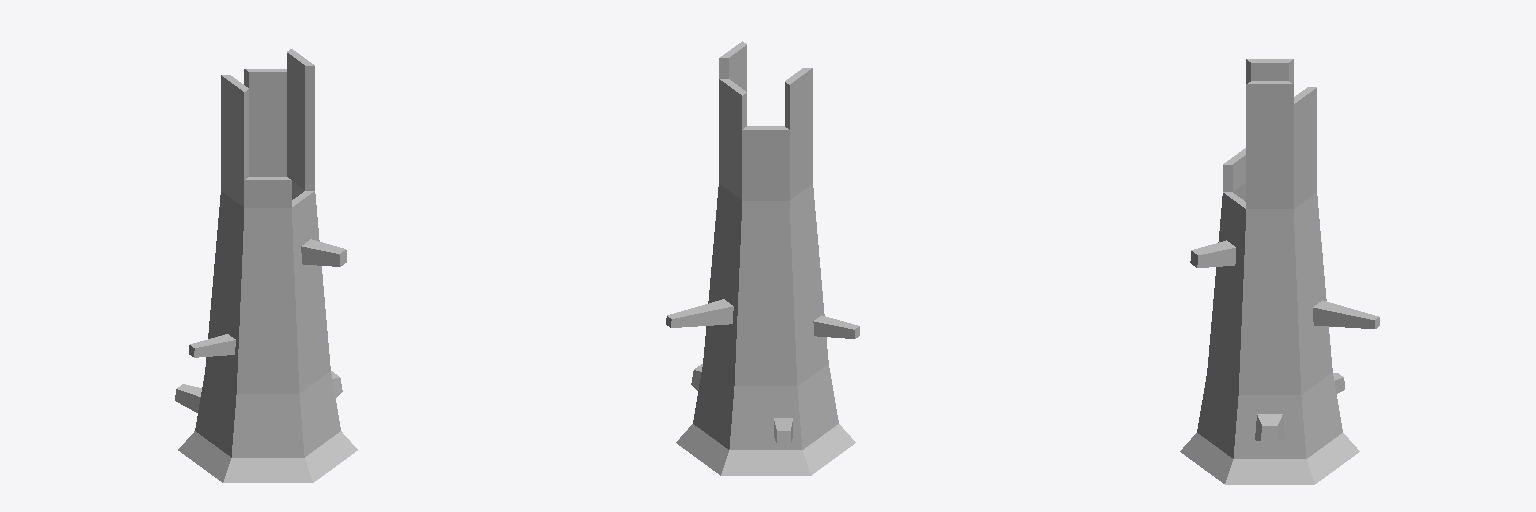
Rendered from trunkLong.obj.
The picture shows the model from 3 angles: view 1: azimuth 30°, elevation 25°; view 2: azimuth 150°, elevation 25°; view 3: azimuth 270°, elevation 25°; orthographic projection.
Visible parts, largest first — view 1: trunkLong; view 2: trunkLong; view 3: trunkLong.
Part boxes in pixels (bbox=[...]): trunkLong: bbox=[175, 49, 357, 482]; trunkLong: bbox=[666, 41, 859, 475]; trunkLong: bbox=[1180, 59, 1379, 484].
Bounding box in the file's own units: 0.5442 × 1.29 × 0.6118.